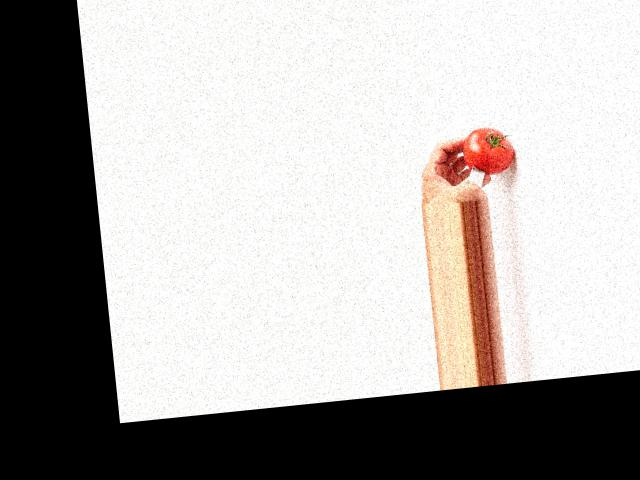tomato: (460, 125, 515, 177)
